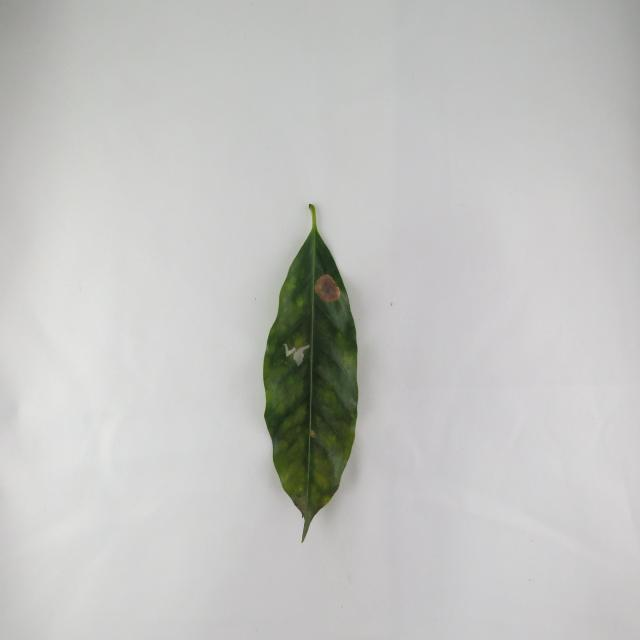DeficienciaNutricional-Magnesio: (264, 205, 358, 542)
